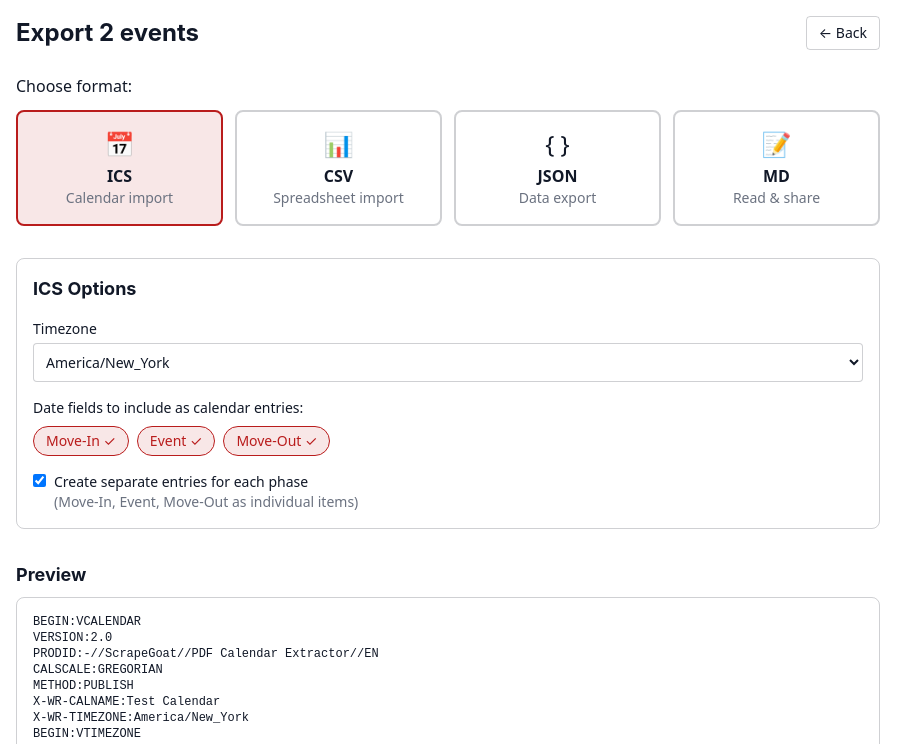
Test case: ExportPage › switches to JSON options when JSON card clicked
The image size is (897, 744).
Click the text "JSON": click(558, 176) left=538, top=165, right=578, bottom=187
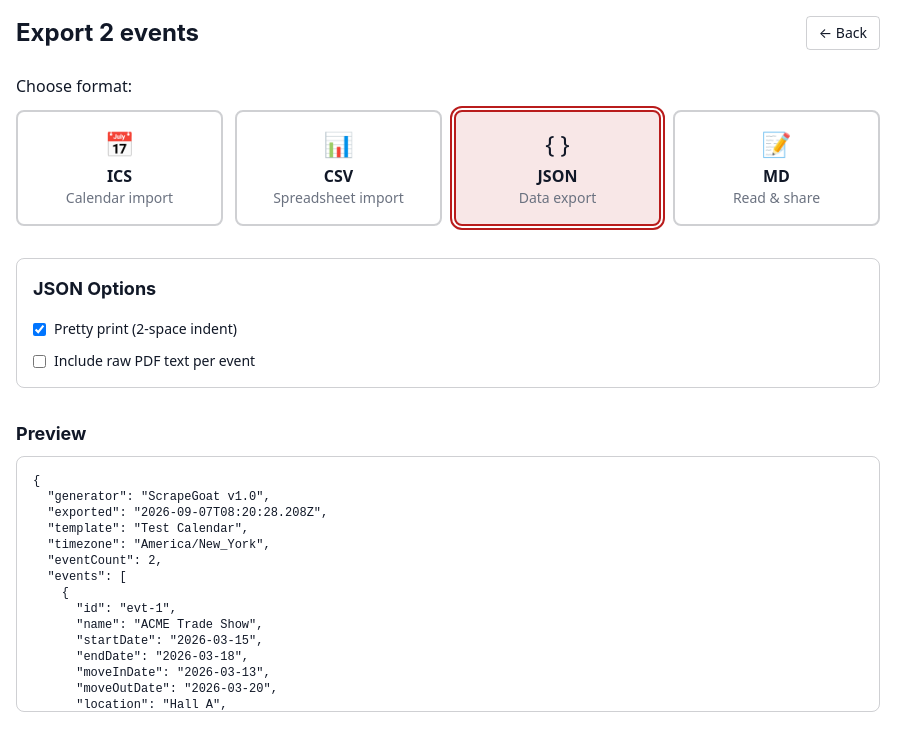
expect the heading "JSON Options" is shown: met, box left=33, top=278, right=156, bottom=299
expect the text "Pretty print (2-space indent)" is shown: met, box left=33, top=319, right=237, bottom=338
